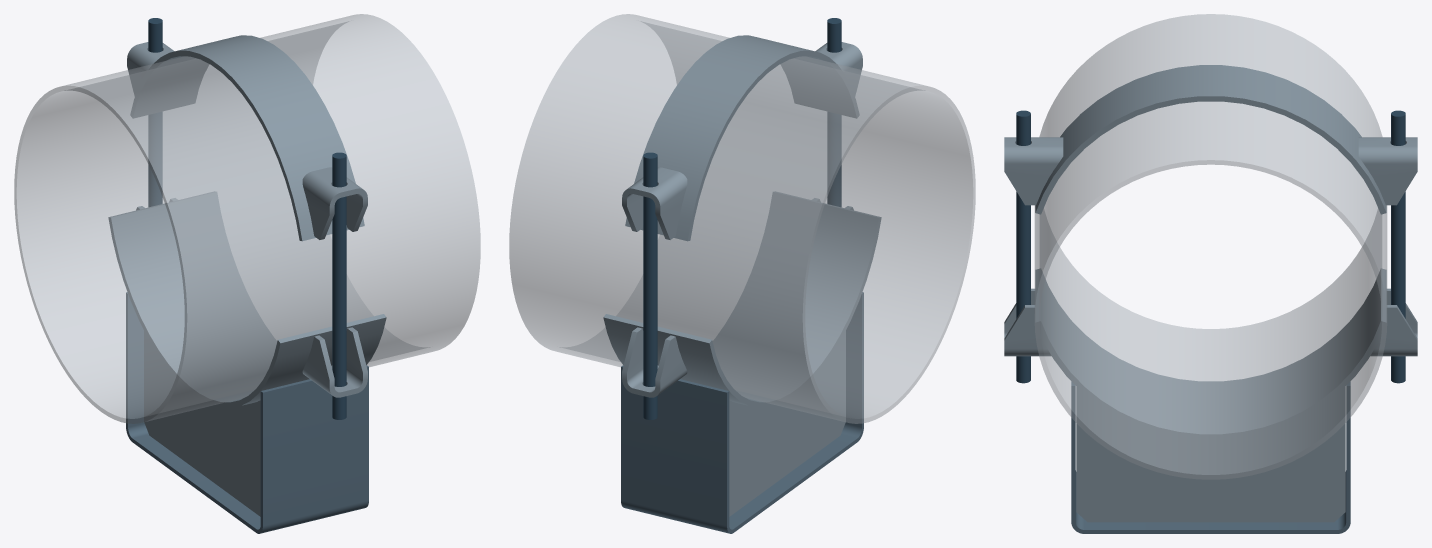
File: TS-627.00.000-007-opora-dn480-H150-L170.glb
3 renders of one model, left to right at view 1: azimuth 30°, elevation 25°; view 2: azimuth 150°, elevation 25°; view 3: azimuth 270°, elevation 25°, orthographic.
Parts seen in each view (by area): view 1: truba, podushka_3, skoba_0, bugel0_podushka_0, rebro4_1, shpilka_0_-1, bugel0_ushko_2, ushko_5, shpilka_0_1, bugel0_ushko_1; view 2: truba, podushka_3, skoba_0, bugel0_podushka_0, rebro4_1, shpilka_0_1, bugel0_ushko_1, ushko_4, shpilka_0_-1, bugel0_ushko_2; view 3: truba, rebro4_2, podushka_3, bugel0_podushka_0, skoba_0, bugel0_ushko_1, bugel0_ushko_2, shpilka_0_1, shpilka_0_-1, ushko_4, ushko_5.
Boxes of the visible parts, x1,y1,x2,y2 form: truba: [14, 14, 480, 423]; podushka_3: [108, 191, 386, 407]; skoba_0: [126, 292, 368, 533]; bugel0_podushka_0: [130, 35, 364, 241]; rebro4_1: [144, 331, 260, 516]; shpilka_0_-1: [332, 152, 346, 419]; bugel0_ushko_2: [302, 167, 367, 239]; ushko_5: [302, 327, 367, 397]; shpilka_0_1: [148, 18, 162, 206]; bugel0_ushko_1: [127, 42, 174, 94]; truba: [509, 14, 975, 423]; podushka_3: [603, 191, 881, 407]; skoba_0: [621, 292, 863, 533]; bugel0_podushka_0: [625, 35, 859, 241]; rebro4_1: [729, 331, 845, 516]; shpilka_0_1: [643, 152, 657, 419]; bugel0_ushko_1: [622, 167, 687, 239]; ushko_4: [622, 327, 687, 397]; shpilka_0_-1: [827, 18, 841, 206]; bugel0_ushko_2: [815, 42, 862, 94]; truba: [1034, 14, 1387, 479]; rebro4_2: [1076, 386, 1345, 522]; podushka_3: [1035, 268, 1386, 439]; bugel0_podushka_0: [1035, 65, 1386, 214]; skoba_0: [1071, 381, 1350, 533]; bugel0_ushko_1: [1358, 137, 1417, 205]; bugel0_ushko_2: [1004, 137, 1063, 205]; shpilka_0_1: [1391, 110, 1405, 383]; shpilka_0_-1: [1016, 110, 1030, 383]; ushko_4: [1370, 288, 1417, 356]; ushko_5: [1004, 288, 1051, 356].
Size of the model in its own units: 470 by 641 by 562.
